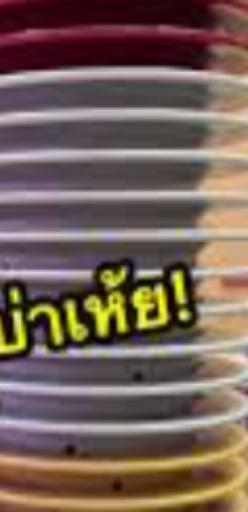Jangold: (0, 486, 238, 512), (0, 459, 244, 476)
Janred: (0, 25, 248, 65), (0, 0, 248, 21)
Janwhite: (0, 103, 240, 139), (0, 225, 248, 259), (0, 147, 242, 181), (0, 398, 236, 432), (0, 187, 248, 219), (0, 75, 248, 105), (0, 375, 217, 396), (126, 343, 248, 366), (198, 269, 248, 313), (0, 268, 86, 287)
